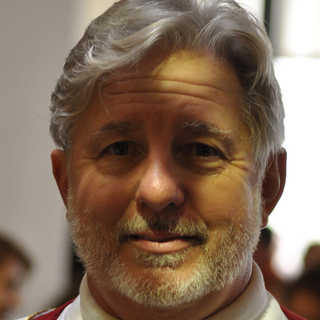eye: (181, 139, 230, 165), (95, 138, 142, 163)
